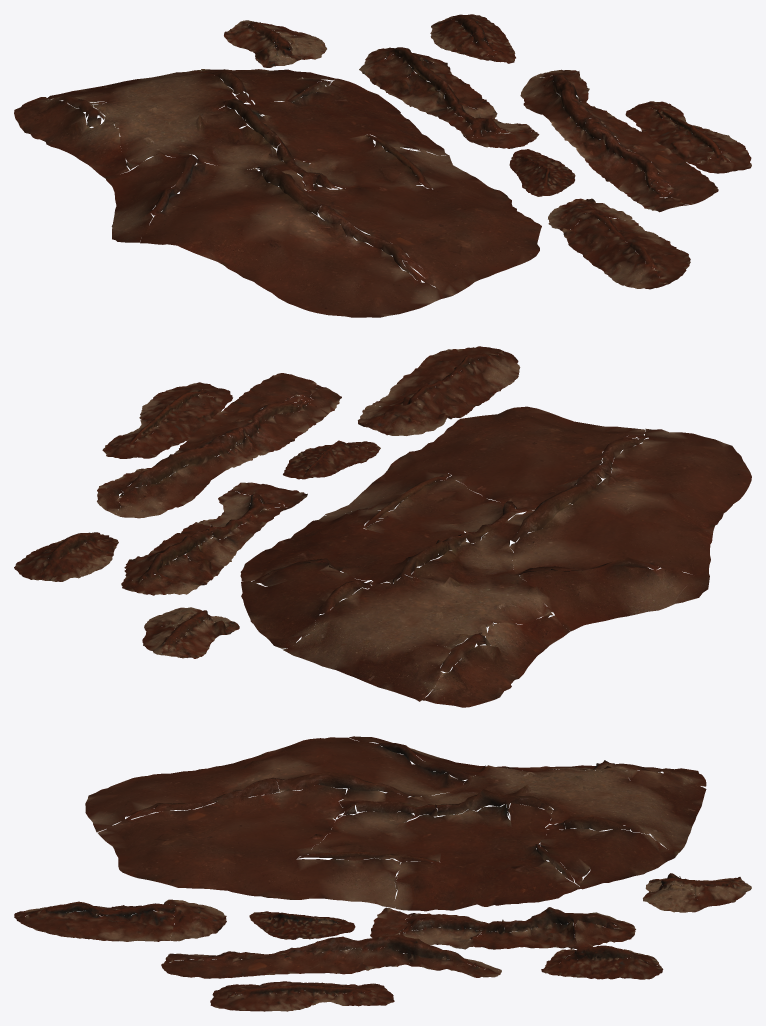
Rendered from root_cluster_02.glb.
3 views of the same model, one above another, from view 1: azimuth 30°, elevation 25°; view 2: azimuth 150°, elevation 25°; view 3: azimuth 270°, elevation 25° (orthographic). The views are drawn at different scales.
Visible parts, largest first — view 1: root_cluster_02_a, root_cluster_02_f, root_cluster_02_d, root_cluster_02_b, root_cluster_02_g, root_cluster_02_e, root_cluster_02_h, root_cluster_02_c; view 2: root_cluster_02_a, root_cluster_02_f, root_cluster_02_d, root_cluster_02_b, root_cluster_02_g, root_cluster_02_h, root_cluster_02_e, root_cluster_02_c; view 3: root_cluster_02_a, root_cluster_02_f, root_cluster_02_d, root_cluster_02_b, root_cluster_02_g, root_cluster_02_h, root_cluster_02_e, root_cluster_02_c.
Boxes of the visible parts, <box> form: root_cluster_02_a: <box>14,69,541,317</box>; root_cluster_02_f: <box>520,69,718,212</box>; root_cluster_02_d: <box>359,47,539,148</box>; root_cluster_02_b: <box>548,198,690,289</box>; root_cluster_02_g: <box>625,101,751,173</box>; root_cluster_02_e: <box>224,20,326,67</box>; root_cluster_02_h: <box>430,14,515,63</box>; root_cluster_02_c: <box>509,149,575,196</box>; root_cluster_02_a: <box>240,406,751,707</box>; root_cluster_02_f: <box>97,373,341,518</box>; root_cluster_02_d: <box>121,482,307,595</box>; root_cluster_02_b: <box>358,346,520,435</box>; root_cluster_02_g: <box>102,382,232,458</box>; root_cluster_02_h: <box>14,532,118,581</box>; root_cluster_02_e: <box>142,607,239,658</box>; root_cluster_02_c: <box>283,440,380,479</box>; root_cluster_02_a: <box>85,736,706,911</box>; root_cluster_02_f: <box>161,934,501,978</box>; root_cluster_02_d: <box>370,907,635,949</box>; root_cluster_02_b: <box>14,899,226,941</box>; root_cluster_02_g: <box>210,981,394,1011</box>; root_cluster_02_h: <box>541,945,663,979</box>; root_cluster_02_e: <box>643,873,751,912</box>; root_cluster_02_c: <box>249,911,355,939</box>.
Bounding box in the file's own units: 2.38 × 0.1982 × 2.71.
1 material, 1 textured.
